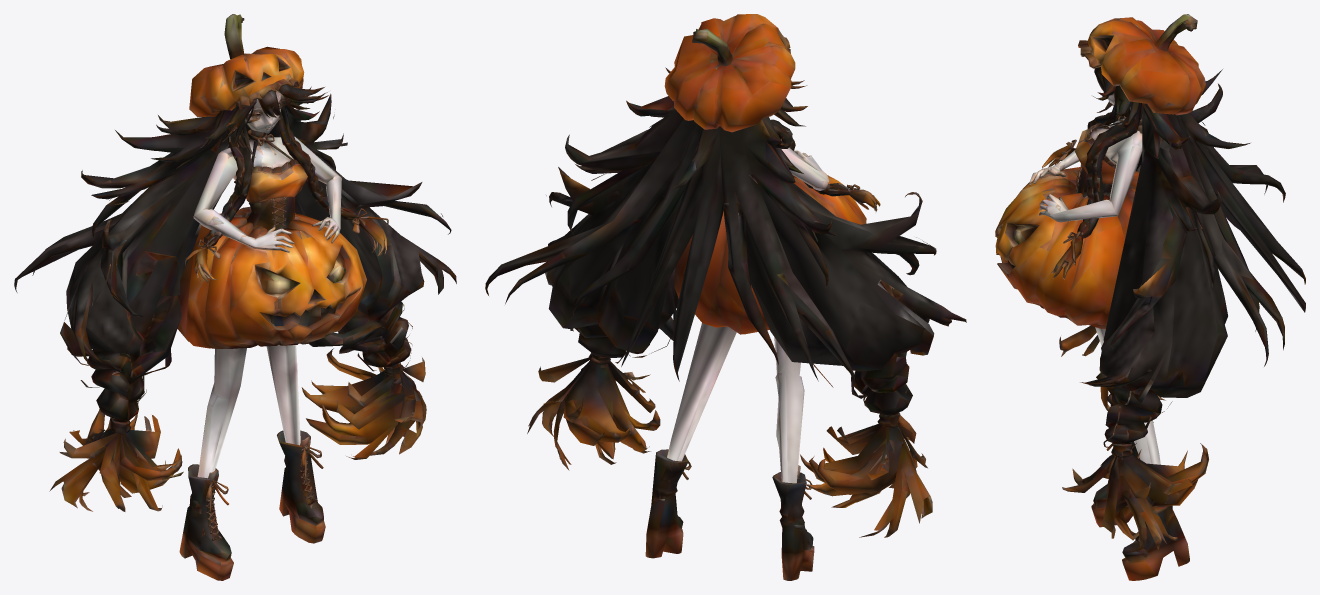
File: pumpkin-girl.lod.glb
The picture shows the model from 3 angles, left to right: view 1: azimuth 30°, elevation 25°; view 2: azimuth 150°, elevation 25°; view 3: azimuth 270°, elevation 25°; orthographic projection. The views are drawn at different scales.
Parts seen in each view (by area): view 1: tripo_node_a7a4ba34-5350-4129-9f3a-0f529541ad01; view 2: tripo_node_a7a4ba34-5350-4129-9f3a-0f529541ad01; view 3: tripo_node_a7a4ba34-5350-4129-9f3a-0f529541ad01.
Part boxes in pixels (x1,y1,x2,y2): tripo_node_a7a4ba34-5350-4129-9f3a-0f529541ad01: (14, 14, 456, 580); tripo_node_a7a4ba34-5350-4129-9f3a-0f529541ad01: (485, 14, 966, 580); tripo_node_a7a4ba34-5350-4129-9f3a-0f529541ad01: (995, 14, 1305, 580).
Bounding box in the file's own units: 0.7622 × 0.9995 × 0.5259.
Materials: 1 (1 with a texture image).
